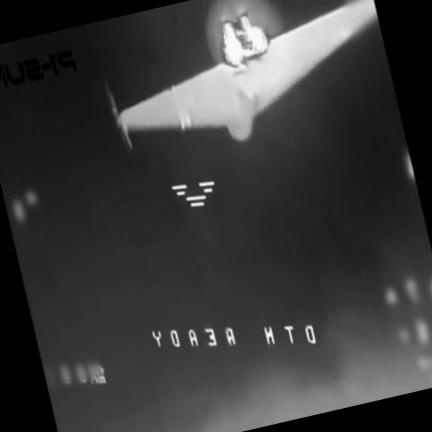Shahed: (105, 0, 376, 148)
